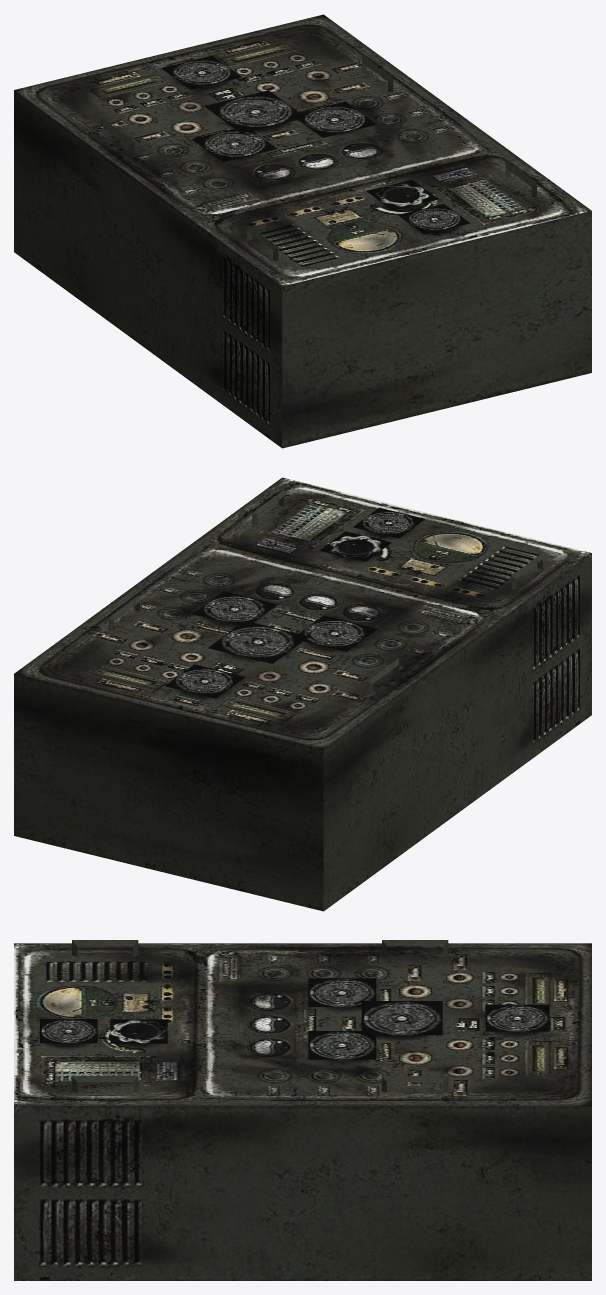
Rendered from military_german_radio2_green_d.glb.
The picture shows the model from 3 angles, top to bottom: view 1: azimuth 30°, elevation 25°; view 2: azimuth 150°, elevation 25°; view 3: azimuth 270°, elevation 25°; orthographic projection. The views are drawn at different scales.
Bounding box in the file's own units: 24.43 × 13.29 × 36.64.
Materials: 3 (3 with a texture image).
